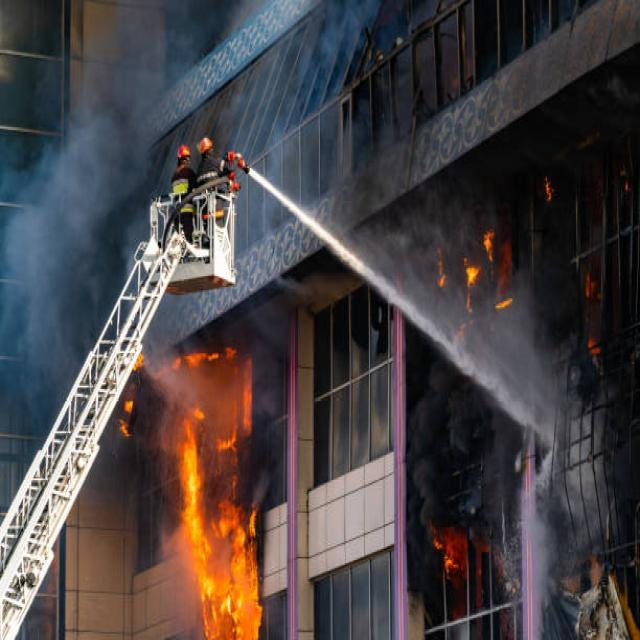Fire: (178, 410, 262, 640), (437, 528, 472, 582)
Smoke: (0, 62, 173, 474), (404, 345, 494, 584)
